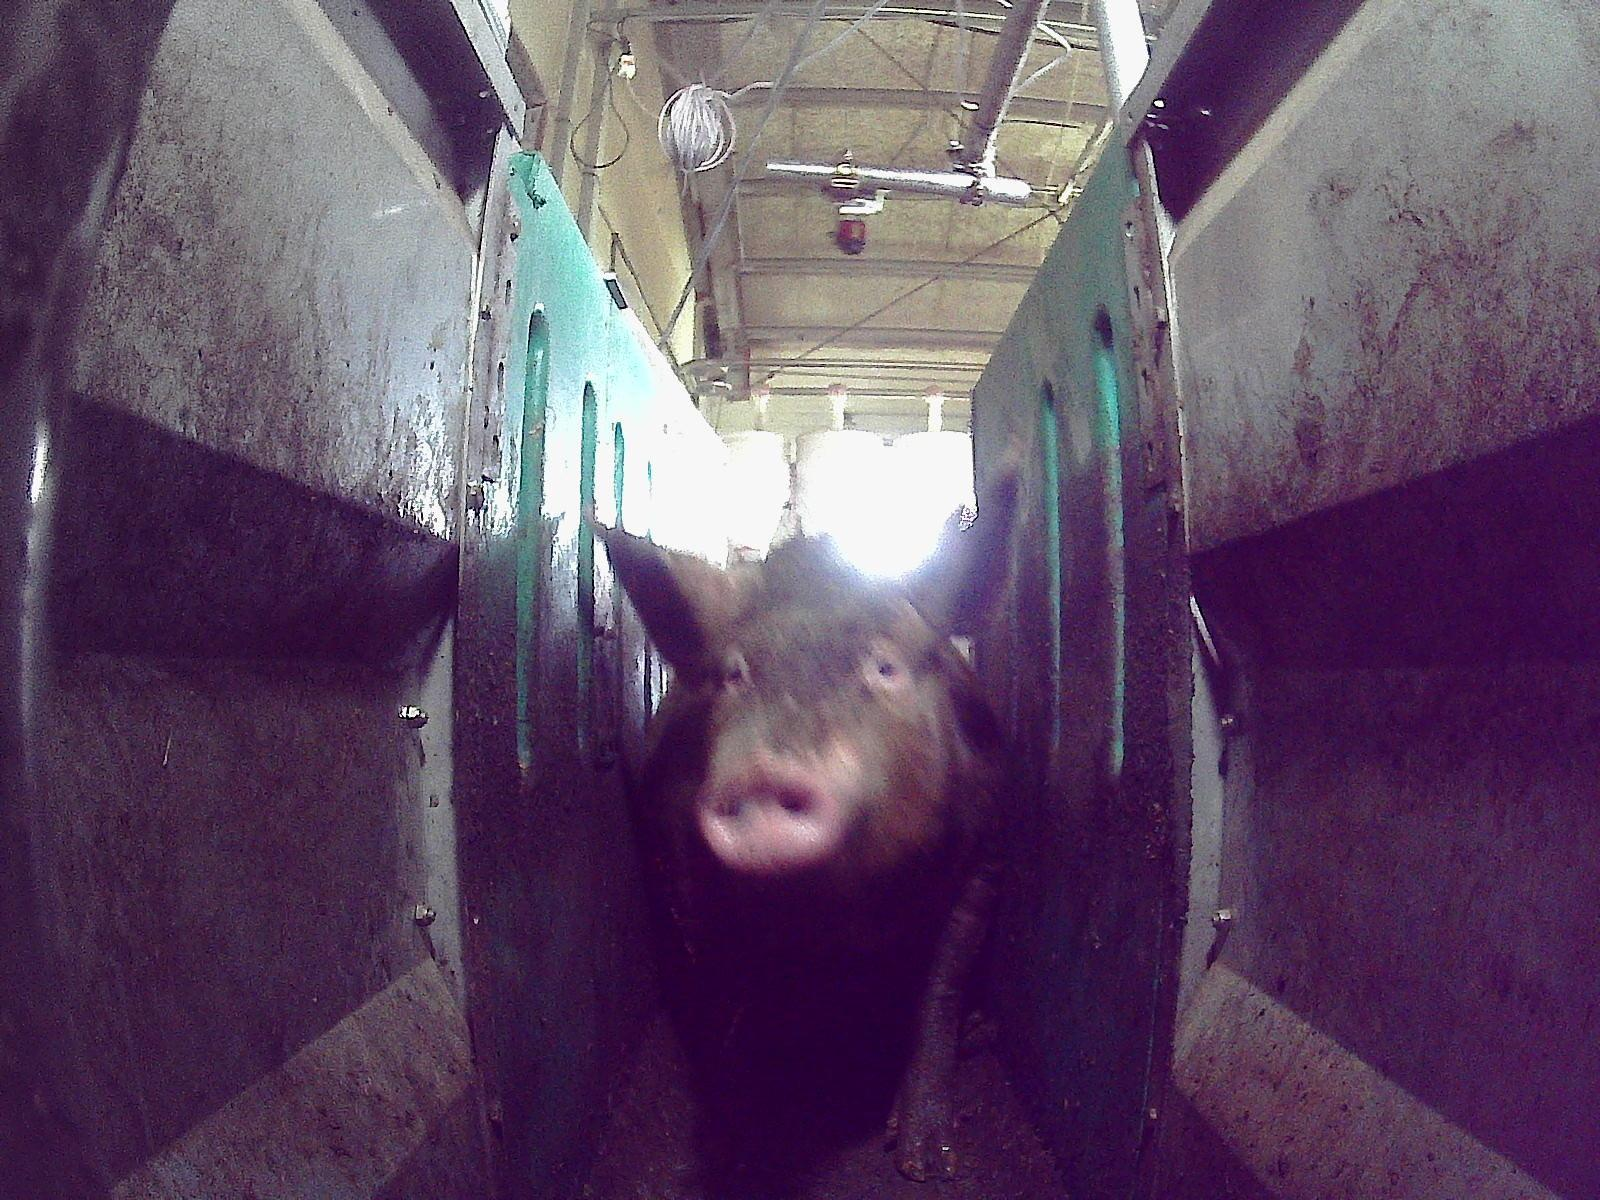Face: (695, 557, 957, 882)
